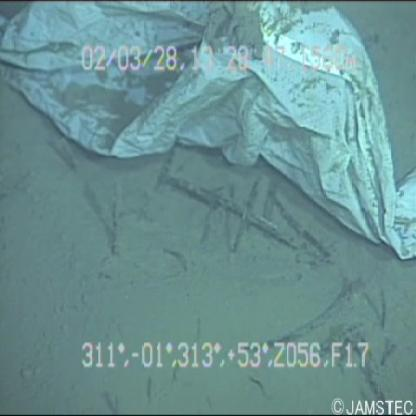Rác: (2, 1, 416, 265)
